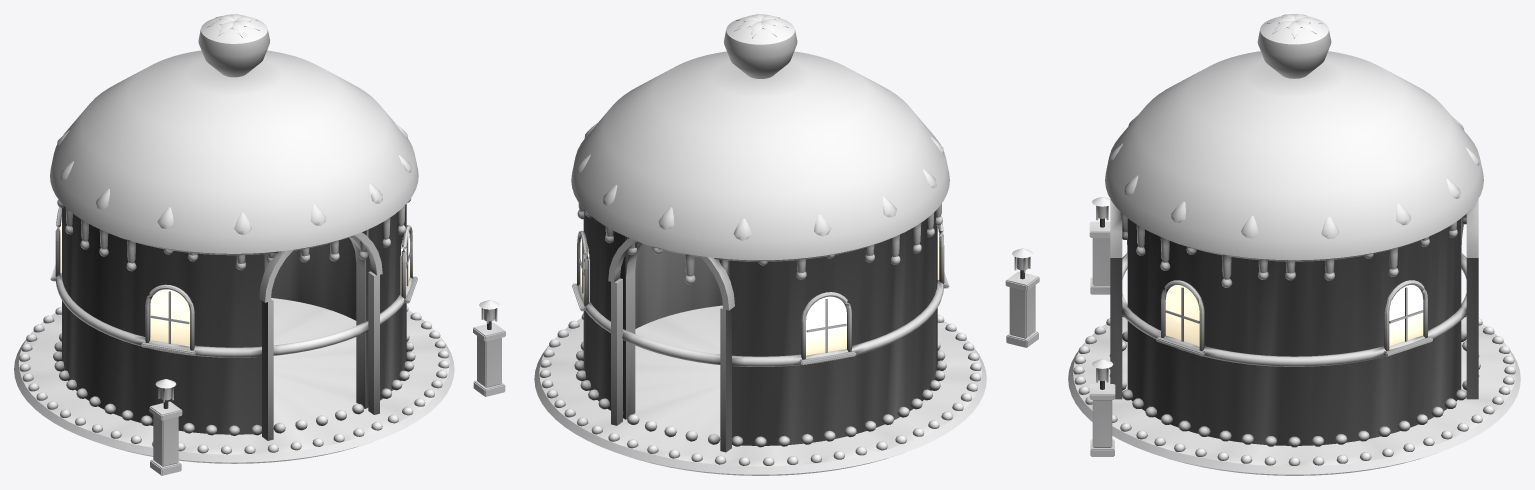
The model's file is HOB_House_Cake.fbx.
3 views of the same model, side by side, from view 1: azimuth 30°, elevation 25°; view 2: azimuth 150°, elevation 25°; view 3: azimuth 270°, elevation 25° (orthographic). The views are drawn at different scales.
Visible parts, largest first — view 1: HOB_House_Cake; view 2: HOB_House_Cake; view 3: HOB_House_Cake.
Boxes of the visible parts, <box> form: HOB_House_Cake: <box>14,14,505,475</box>; HOB_House_Cake: <box>534,14,1039,475</box>; HOB_House_Cake: <box>1068,14,1520,475</box>.
Bounding box in the file's own units: 920 × 818 × 920.
